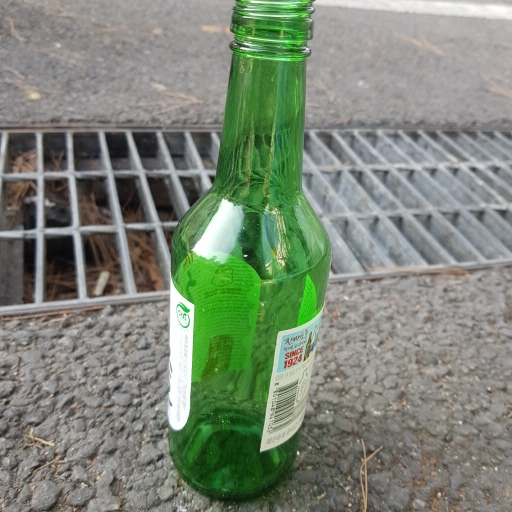Glass_0: (165, 3, 330, 498)
